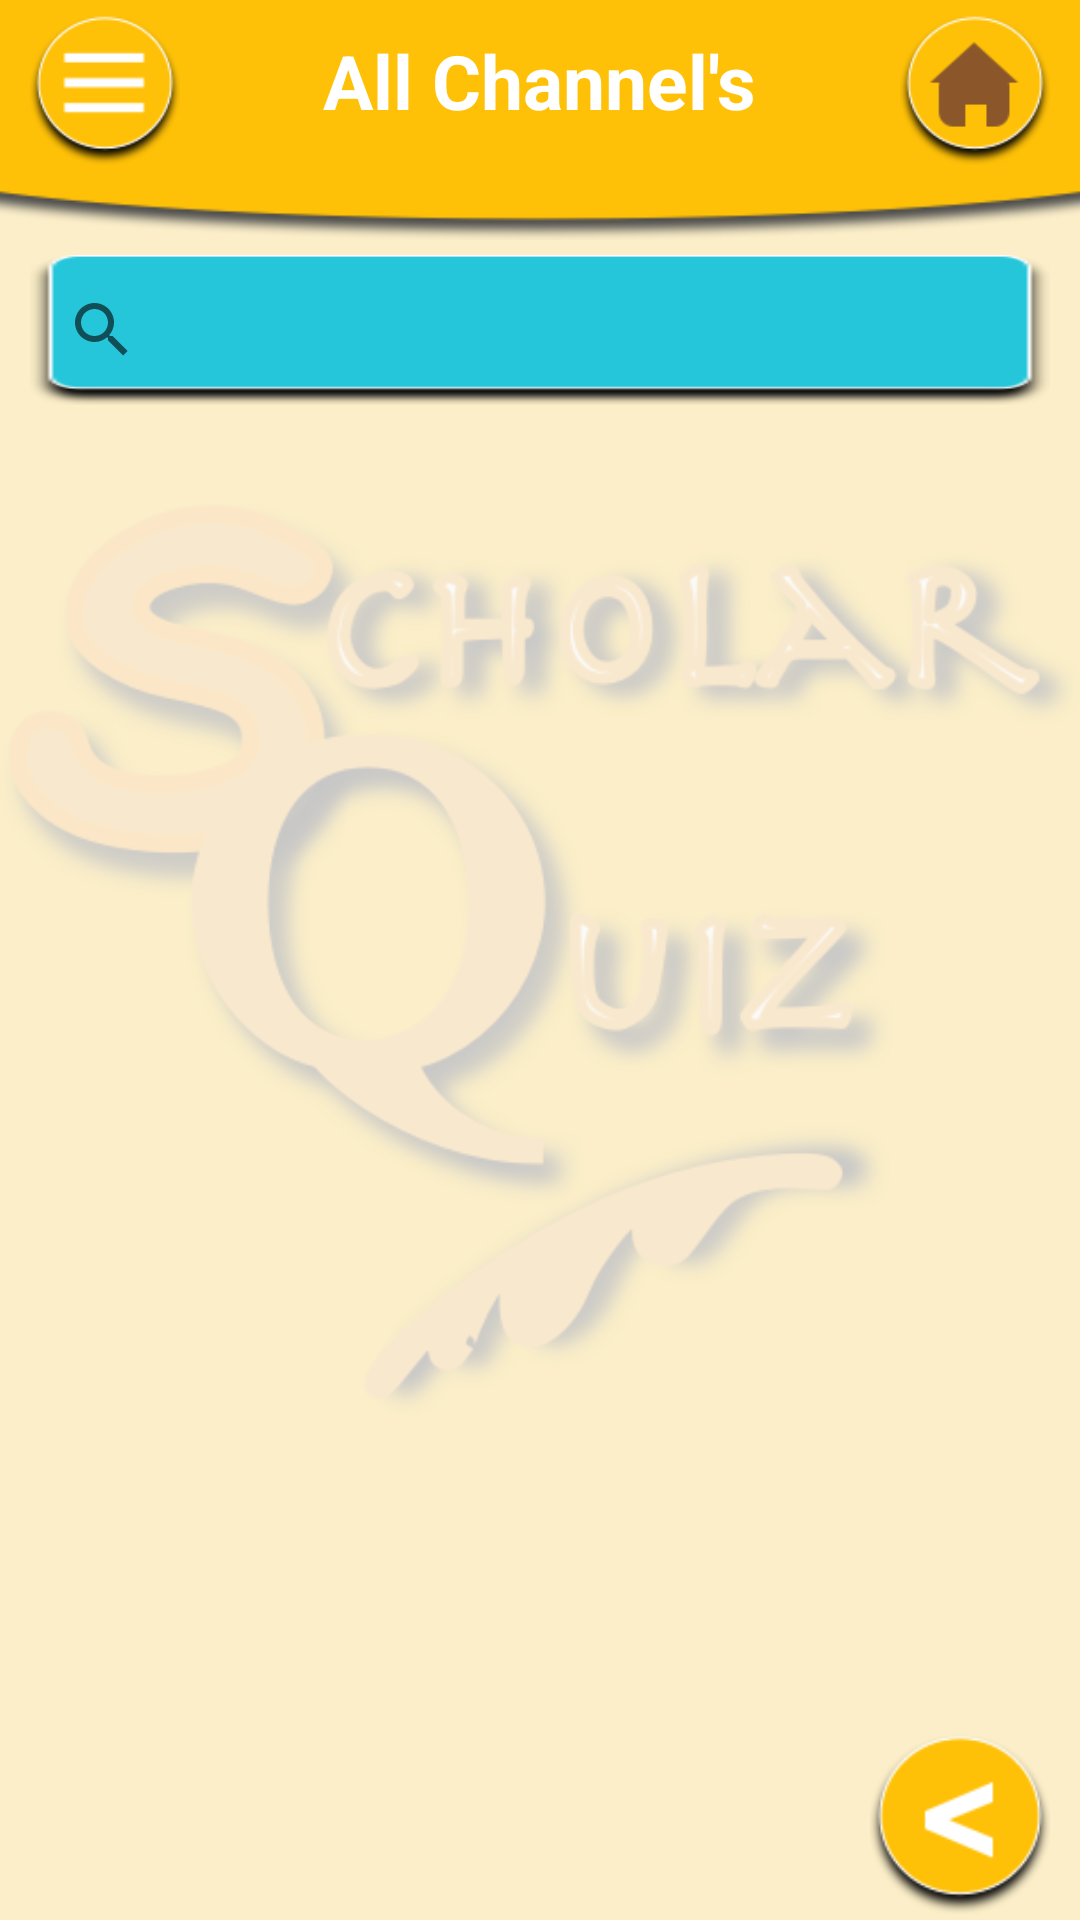

Screen size 1080px×1920px. Icon name, then its center in pixels as (x=x, y=y):
backbutton: (x=960, y=1824)
home brown: (x=975, y=89)
menubutton: (x=105, y=89)
